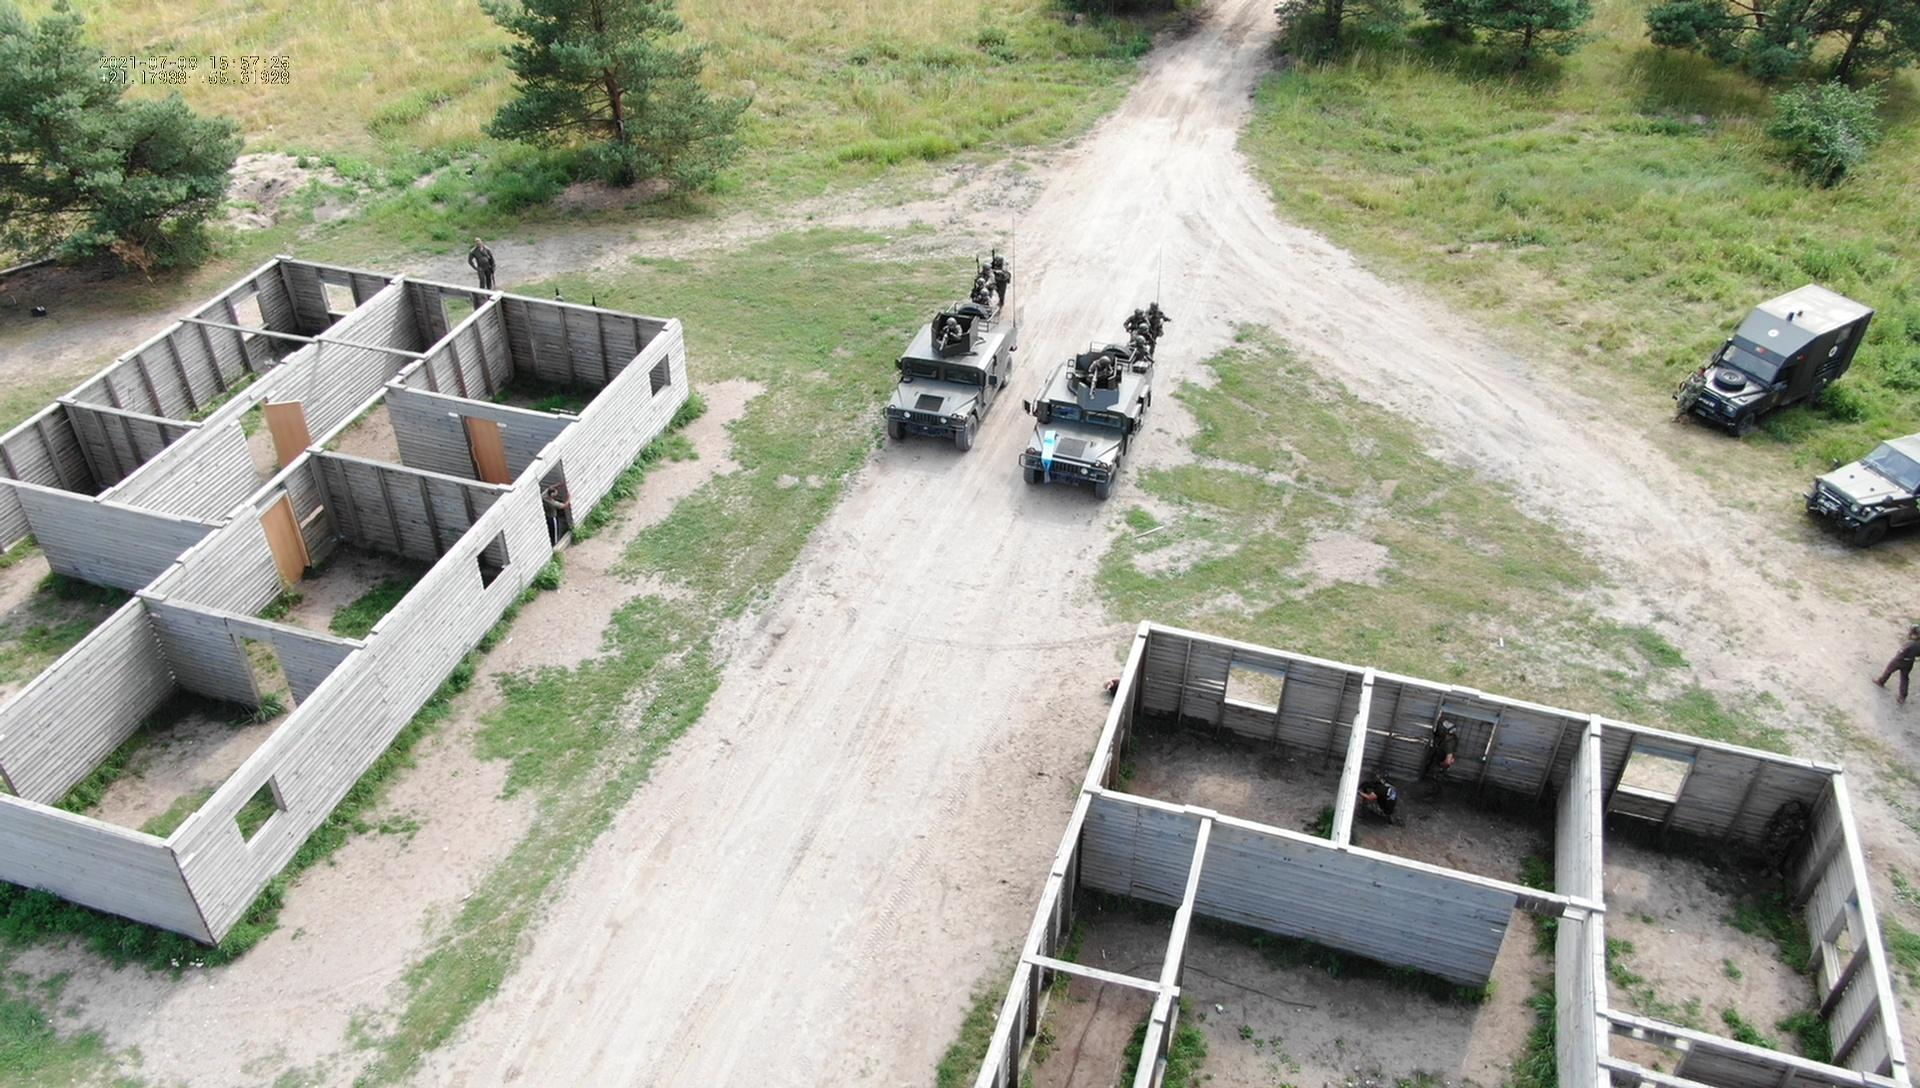Soldier: (1420, 723, 1464, 822), (1353, 770, 1412, 833), (1675, 359, 1718, 425), (462, 232, 506, 290), (1087, 355, 1122, 397), (942, 318, 977, 360), (1135, 306, 1163, 348), (968, 269, 996, 309), (986, 256, 1013, 294), (1142, 305, 1167, 342), (1139, 301, 1166, 330)
